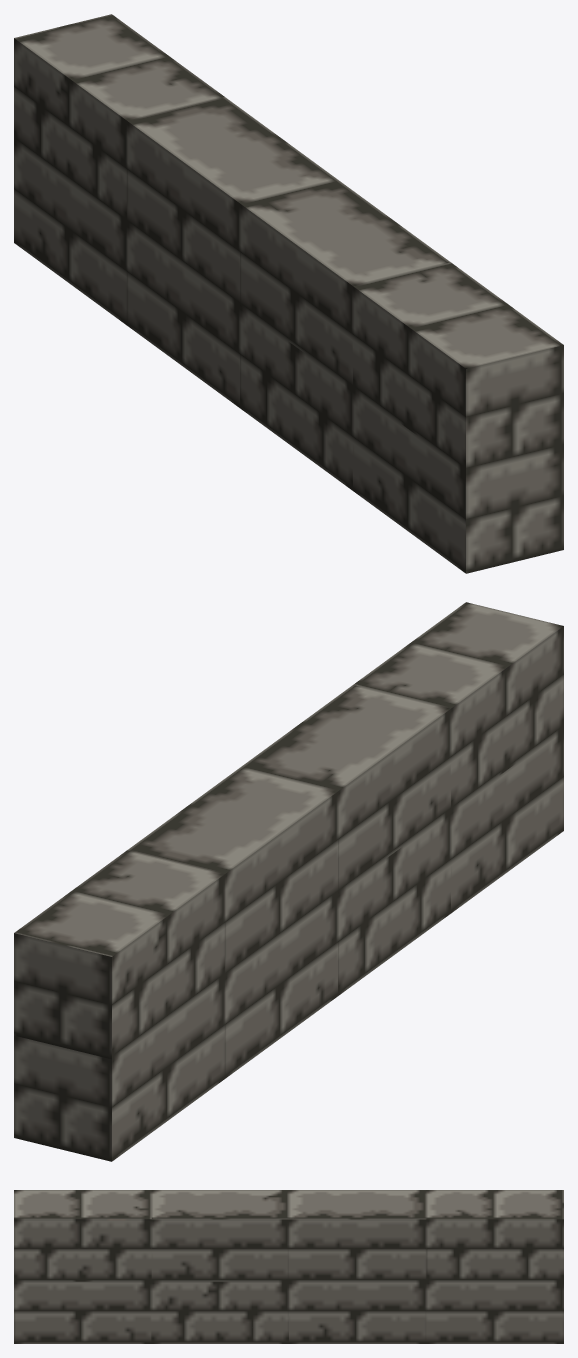
File: Trim_Piece_2M_x4.fbx
3 renders of one model, top to bottom at view 1: azimuth 30°, elevation 25°; view 2: azimuth 150°, elevation 25°; view 3: azimuth 270°, elevation 25°, orthographic. The views are drawn at different scales.
Visible parts, largest first — view 1: Wall_Piece_2M_x4; view 2: Wall_Piece_2M_x4; view 3: Wall_Piece_2M_x4.
Part boxes in pixels (x1,y1,x2,y2): Wall_Piece_2M_x4: [14, 14, 563, 573]; Wall_Piece_2M_x4: [14, 602, 563, 1161]; Wall_Piece_2M_x4: [14, 1190, 563, 1343].
Size of the model in its own units: 100 by 200 by 800.
Materials: 1 (1 with a texture image).
